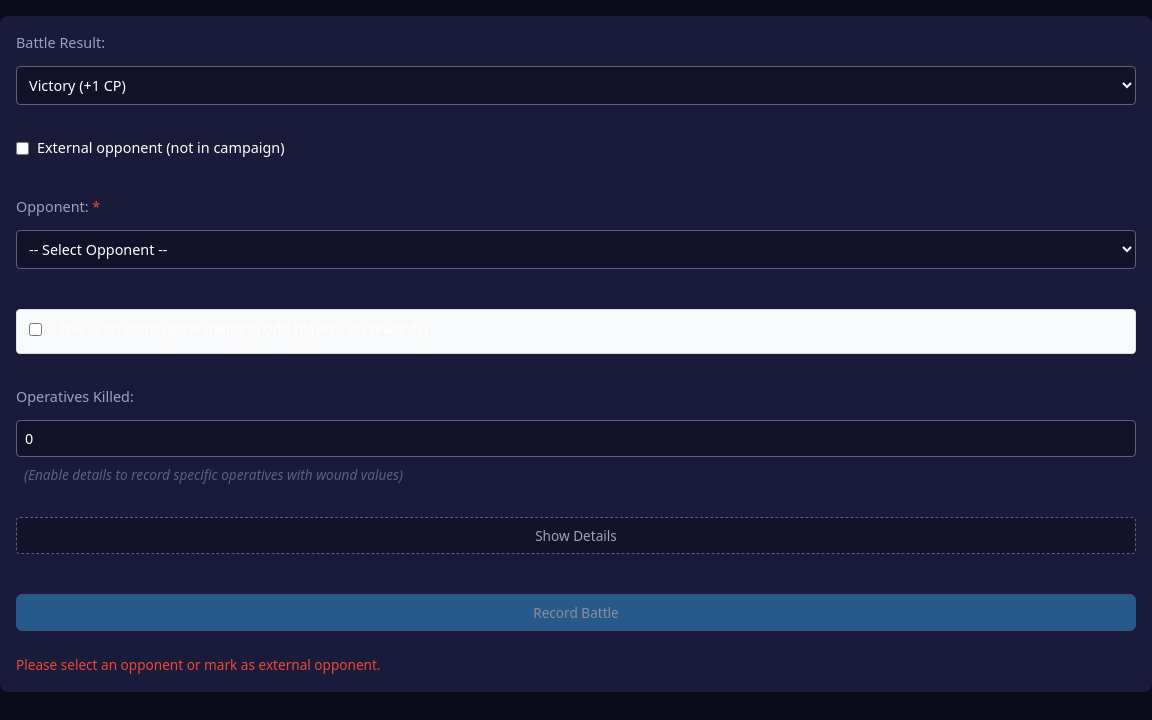
Test case: BattleForm › External Opponent Toggle › should hide opponent dropdown when external is checked
Click the checkbox labelled "External opponent (not in campaign)" at (22, 148), box [16,142,29,155]
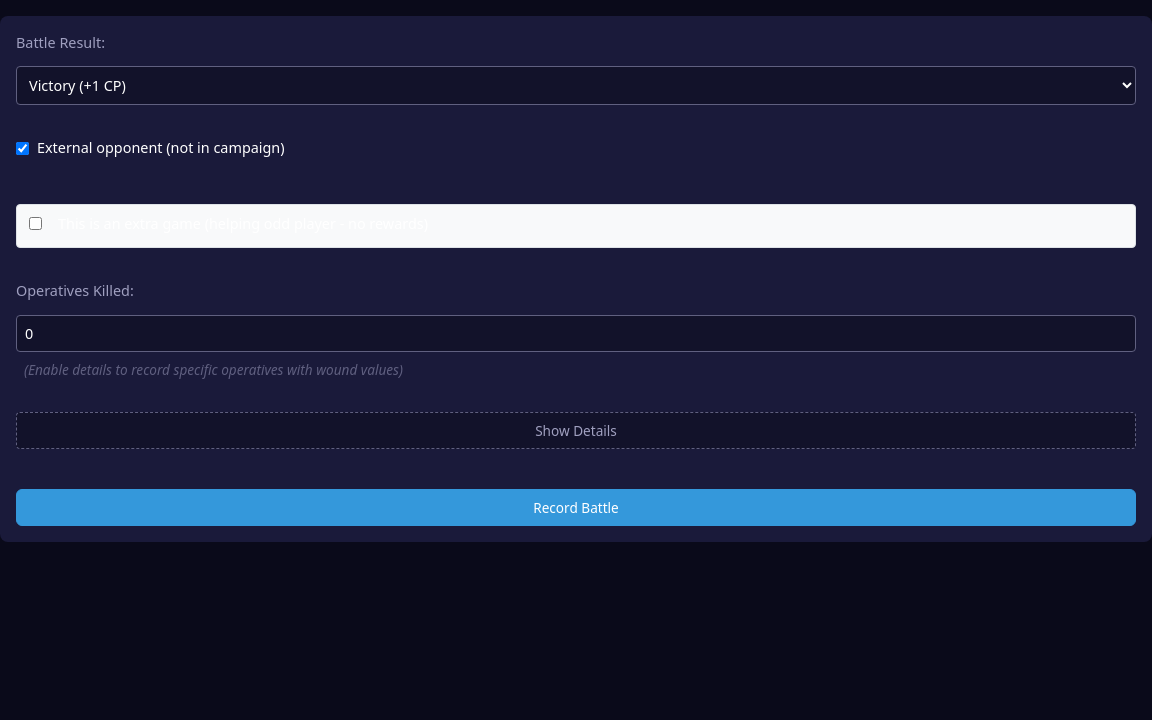
Check: the label "Opponent:" is gone
